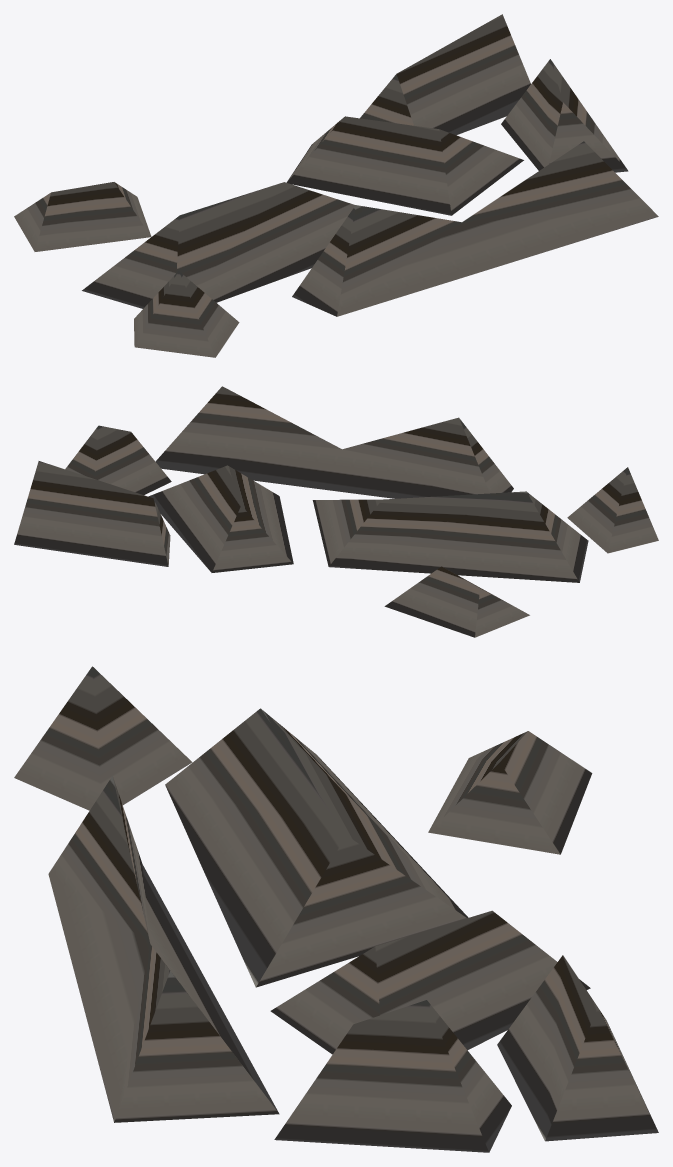
File: rock_vclump3_hdtex.glb
3 renders of one model, top to bottom at view 1: azimuth 30°, elevation 25°; view 2: azimuth 150°, elevation 25°; view 3: azimuth 270°, elevation 25°, orthographic. The views are drawn at different scales.
Parts seen in each view (by area): view 1: Rock_VClump3; view 2: Rock_VClump3; view 3: Rock_VClump3.
Boxes of the visible parts, x1=… form: Rock_VClump3: x1=14, y1=14, x2=658, y2=357; Rock_VClump3: x1=14, y1=386, x2=658, y2=637; Rock_VClump3: x1=14, y1=666, x2=658, y2=1152.
Bounding box in the file's own units: 24.89 × 3.6 × 16.5.
1 material, 1 textured.
